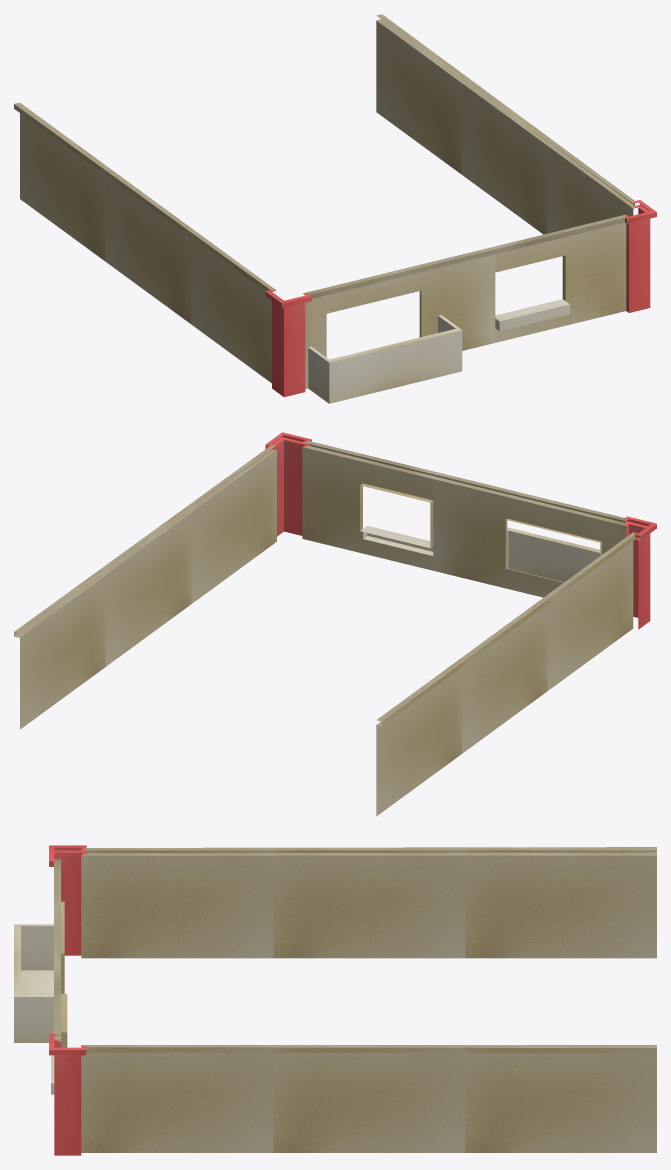
The model's file is Predio15m_TileAndar1.FBX.
The picture shows the model from 3 angles, top to bottom: view 1: azimuth 30°, elevation 25°; view 2: azimuth 150°, elevation 25°; view 3: azimuth 270°, elevation 25°; orthographic projection. The views are drawn at different scales.
Visible parts, largest first — view 1: Predio15m_TileAndar1; view 2: Predio15m_TileAndar1; view 3: Predio15m_TileAndar1.
Boxes of the visible parts, x1=… form: Predio15m_TileAndar1: x1=14, y1=14, x2=656, y2=403; Predio15m_TileAndar1: x1=14, y1=432, x2=656, y2=816; Predio15m_TileAndar1: x1=14, y1=845, x2=656, y2=1155.
Size of the model in its own units: 1218 by 300 by 1618.
1 material, 1 textured.
